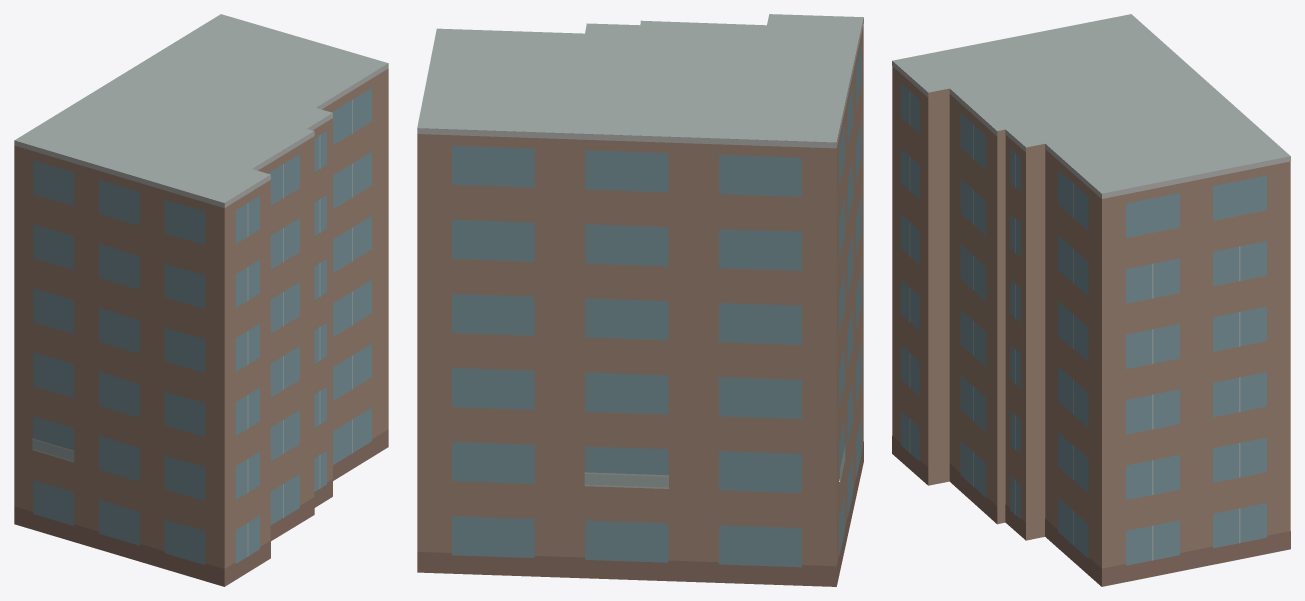
The model's file is survey-upis-32758087.glb.
The picture shows the model from 3 angles, left to right: view 1: azimuth 30°, elevation 25°; view 2: azimuth 150°, elevation 25°; view 3: azimuth 270°, elevation 25°; orthographic projection. The views are drawn at different scales.
Parts seen in each view (by area): view 1: survey-upis-32758087.tmp; view 2: survey-upis-32758087.tmp; view 3: survey-upis-32758087.tmp.
Part boxes in pixels (<box>): survey-upis-32758087.tmp: <box>14,14,388,586</box>; survey-upis-32758087.tmp: <box>417,14,863,586</box>; survey-upis-32758087.tmp: <box>892,14,1290,586</box>.
Size of the model in its own units: 17.96 by 18.3 by 16.83.
